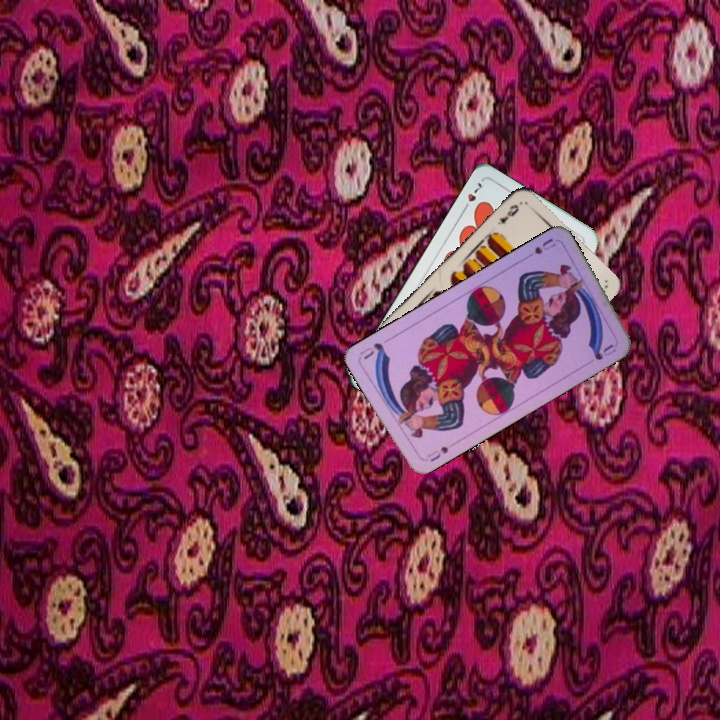E9: (493, 200, 521, 227)
H7: (459, 178, 485, 214)
SU: (520, 234, 559, 262), (423, 442, 451, 464)
